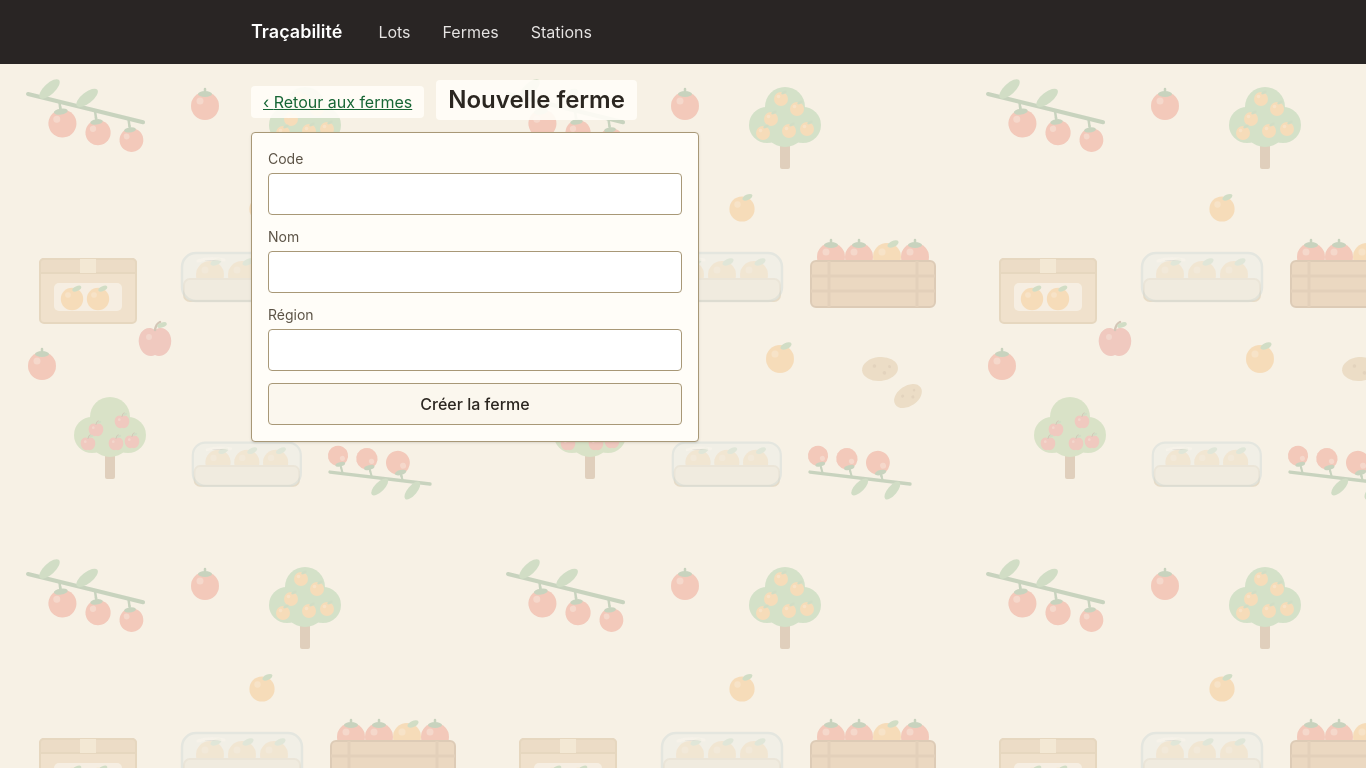
NewFarmPage › sends the farm with POST, then says it is created and empties the form
The width and height of the screenshot is (1366, 768).
Type "ZT-FARM" into the field labelled "Code" at (475, 194), box [268,173,682,215]
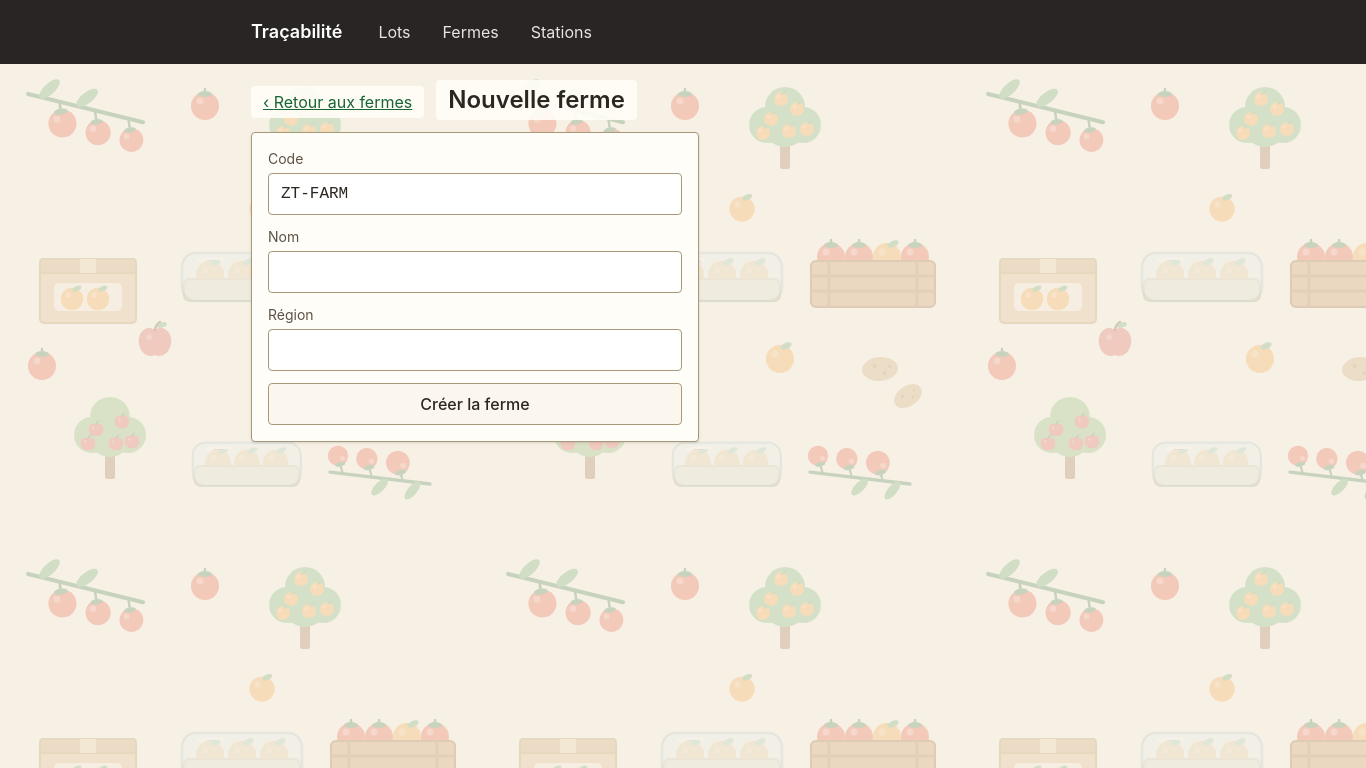
Type "Test farm" into the field labelled "Nom" at (475, 272), box [268,251,682,293]
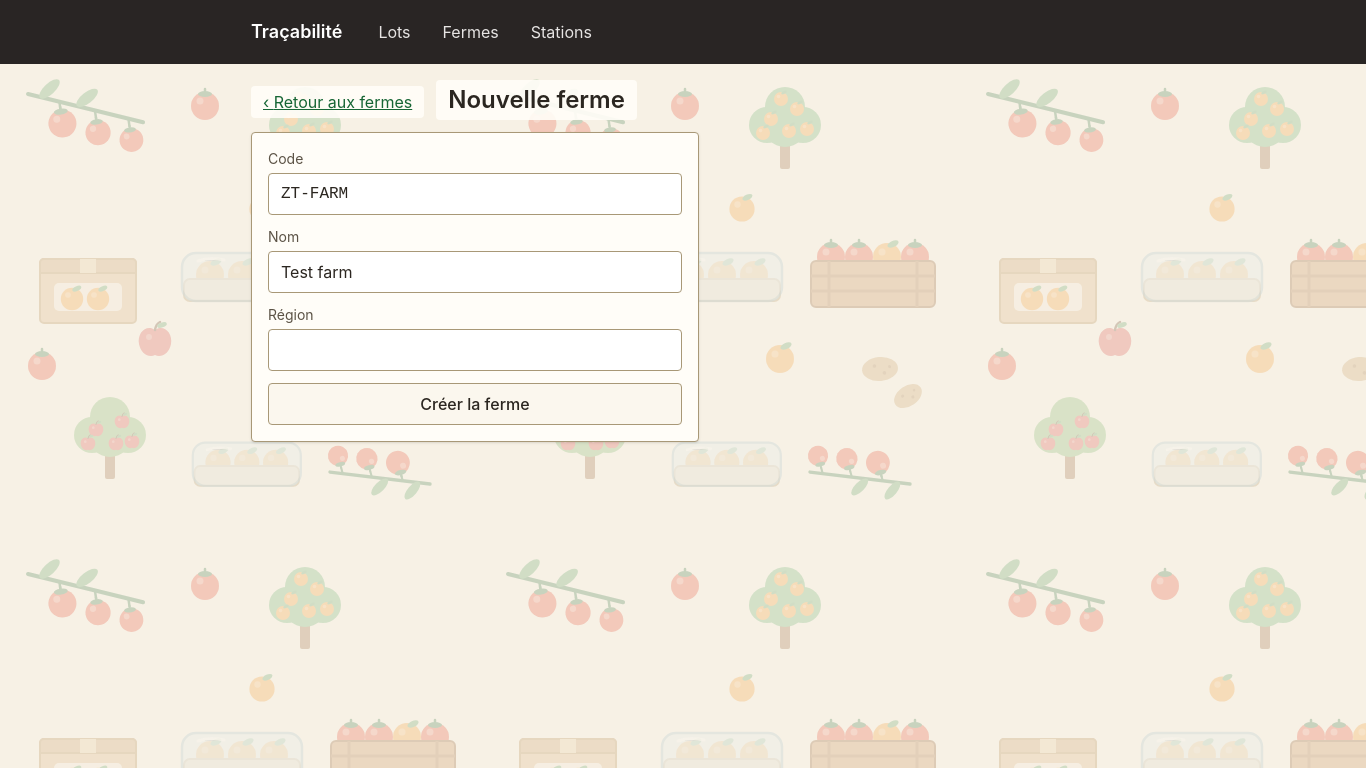
Type "Region A" into the field labelled "Région" at (475, 350), box [268,329,682,371]
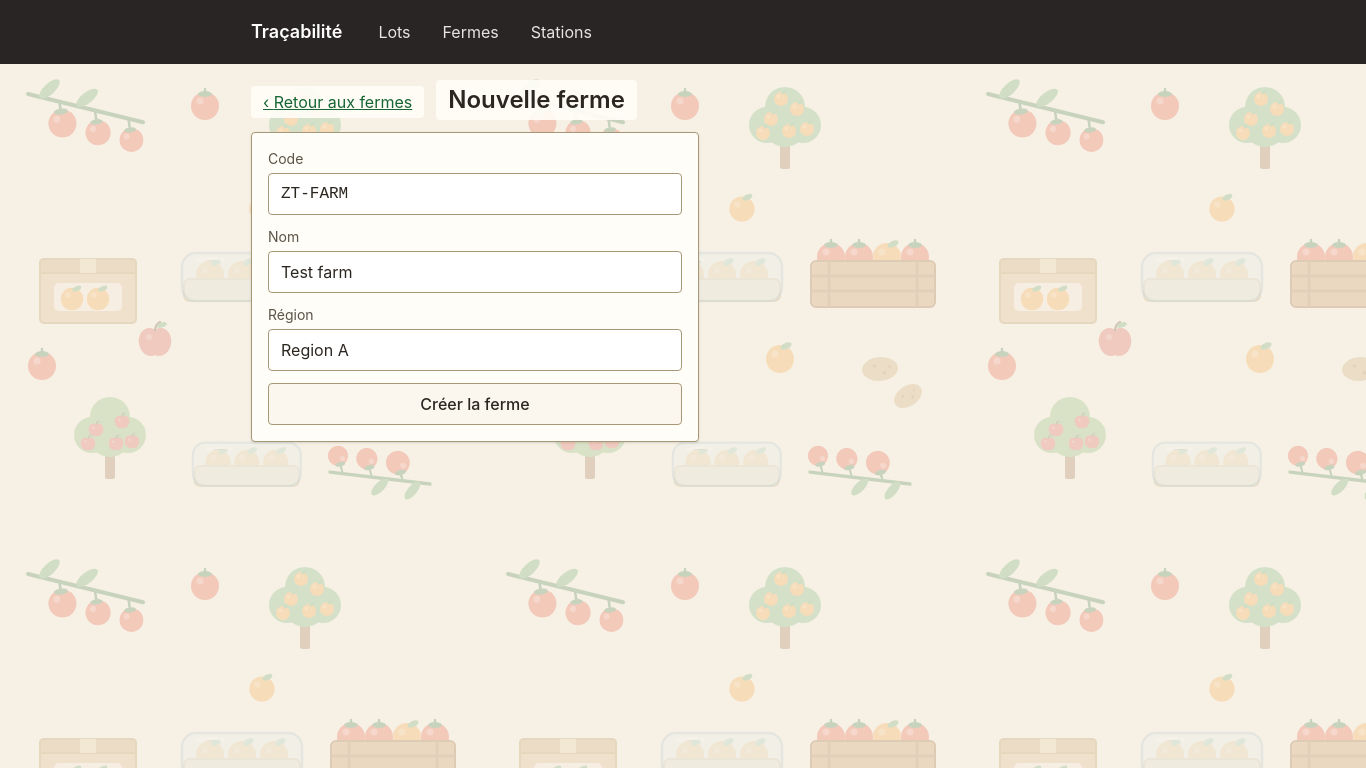
Click the button "Créer la ferme" at (475, 404), box [268,383,682,425]
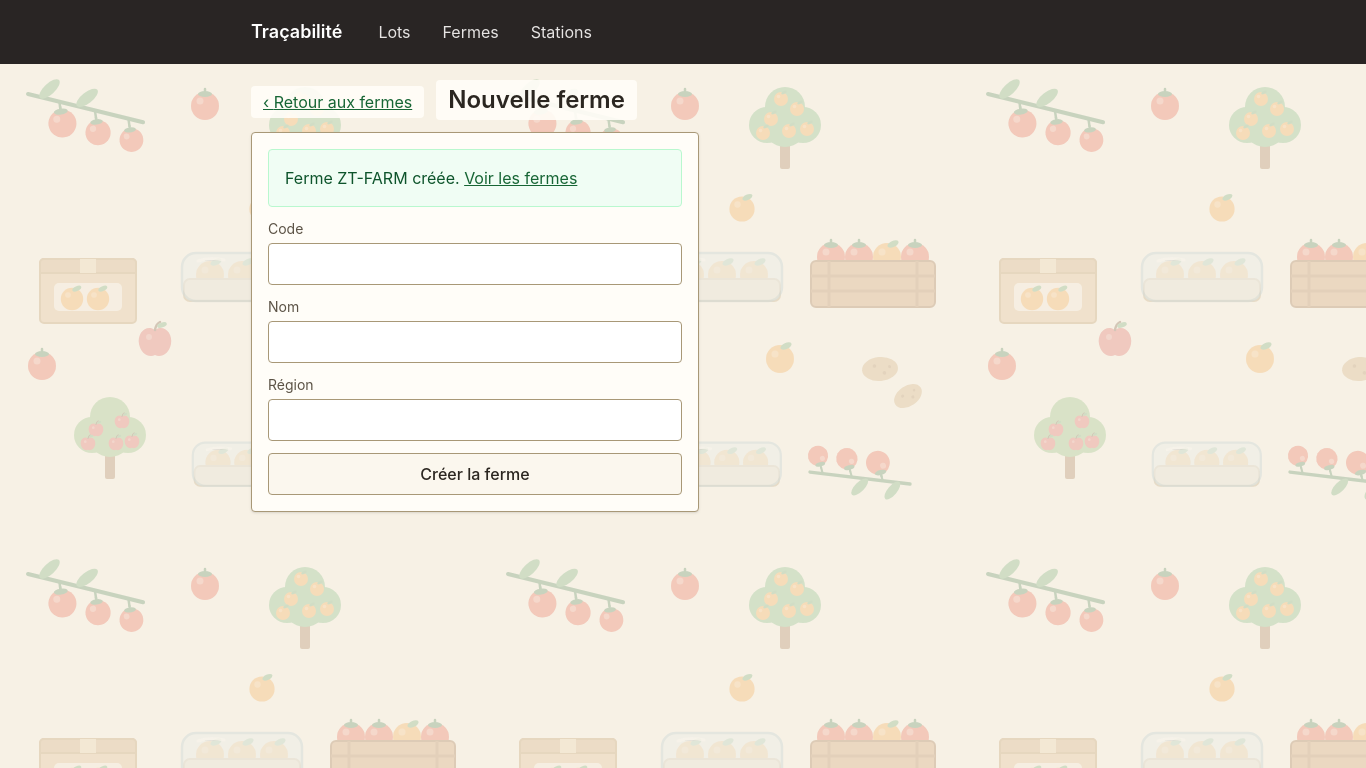
Expected: the message shows "Ferme ZT-FARM créée.", [268,149,682,207]
Expected: the field labelled "Code" is empty, [268,243,682,285]
